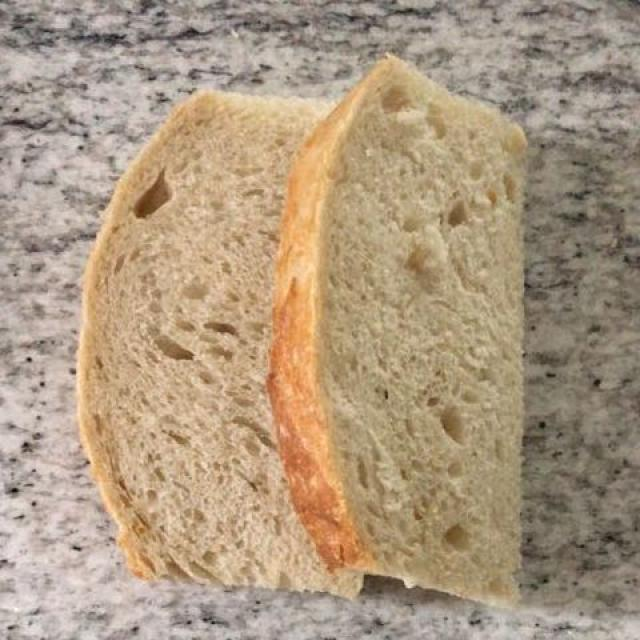bread: (75, 63, 521, 601)
